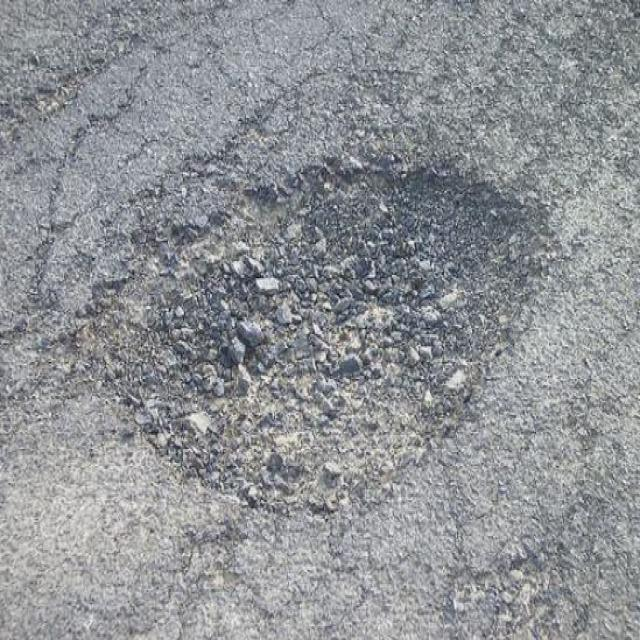pothole: (39, 130, 566, 520)
